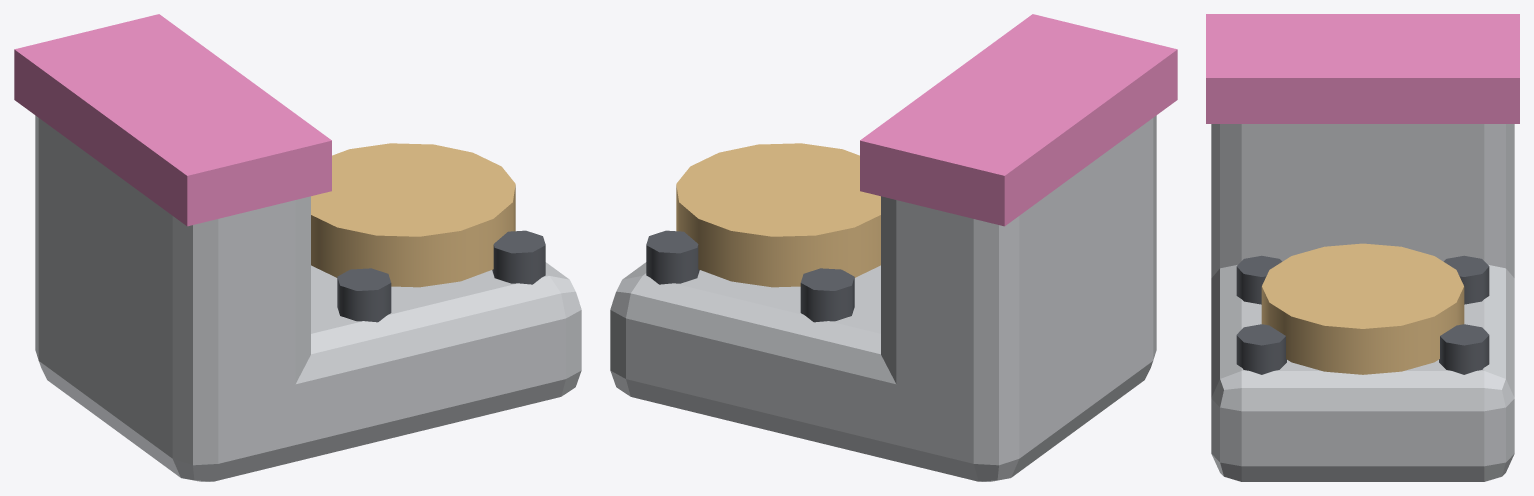
File: Pieza2.fbx
The picture shows the model from 3 angles, left to right: view 1: azimuth 30°, elevation 25°; view 2: azimuth 150°, elevation 25°; view 3: azimuth 270°, elevation 25°; orthographic projection. The views are drawn at different scales.
Visible parts, largest first — view 1: Cuerpo, Color; view 2: Cuerpo, Color; view 3: Cuerpo, Color.
Boxes of the visible parts, box(x1,y1,x2,y2) form: Cuerpo: box(35, 115, 581, 481); Color: box(14, 14, 331, 226); Cuerpo: box(610, 115, 1156, 481); Color: box(860, 14, 1177, 226); Cuerpo: box(1211, 124, 1514, 481); Color: box(1206, 14, 1519, 123).
Size of the model in its own units: 0.425 by 0.325 by 0.31.
